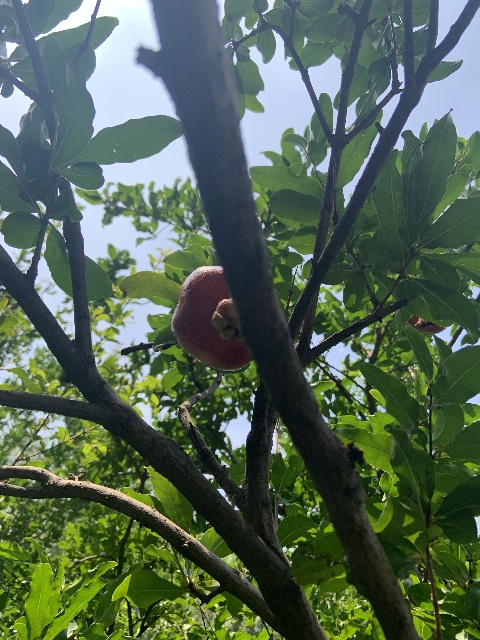ripe: (171, 265, 250, 370), (406, 315, 446, 333)
